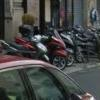Motorcycle: (7, 29, 90, 65)
